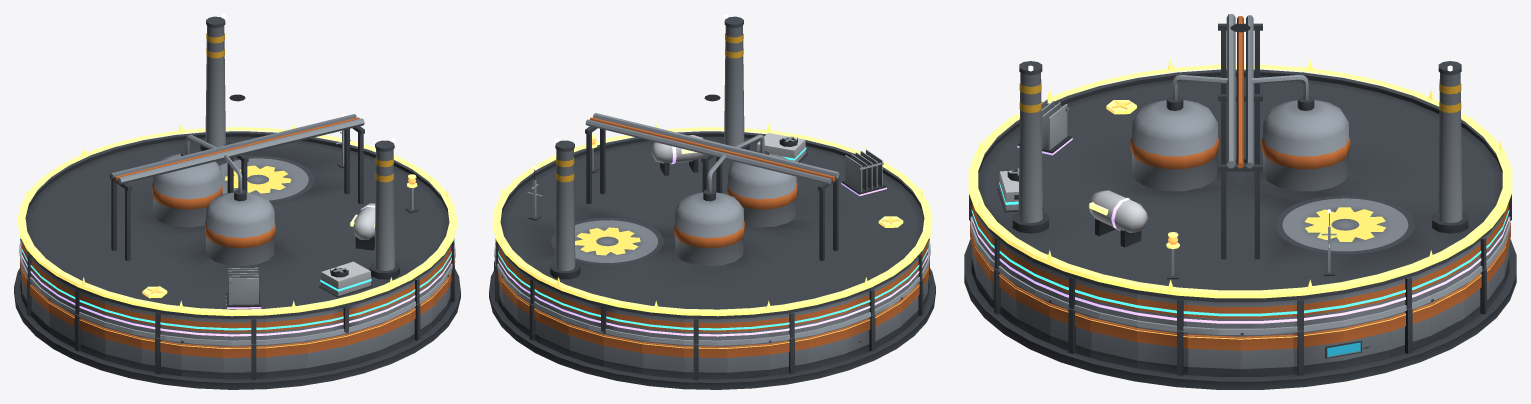
Rendered from polymer_plant_m.glb.
3 renders of one model, left to right at view 1: azimuth 30°, elevation 25°; view 2: azimuth 150°, elevation 25°; view 3: azimuth 270°, elevation 25°, orthographic. The views are drawn at different scales.
Parts seen in each view (by area): view 1: Roof, Base, L4, Wall_21, Wall_20, Wall_22, Wall_19, Wall_23, L3, Wall_18, Wall_24, Wall_17 (+20 smaller); view 2: Roof, Base, L4, Wall_10, Wall_11, Wall_09, Wall_12, Wall_08, Wall_13, Wall_07, Wall_14, Wall_06 (+19 smaller); view 3: Roof, Base, L4, Wall_00, Wall_31, Wall_30, Wall_29, Wall_01, Wall_02, Wall_28, Wall_03, Wall_04 (+24 smaller).
Boxes of the visible parts, x1=… form: Roof: x1=25, y1=14, x2=451, y2=319; Base: x1=14, y1=268, x2=460, y2=389; L4: x1=226, y1=203, x2=375, y2=308; Wall_21: x1=223, y1=344, x2=265, y2=380; Wall_20: x1=181, y1=340, x2=223, y2=378; Wall_22: x1=265, y1=340, x2=307, y2=378; Wall_19: x1=141, y1=336, x2=181, y2=375; Wall_23: x1=307, y1=333, x2=346, y2=374; L3: x1=318, y1=261, x2=372, y2=297; Wall_18: x1=104, y1=327, x2=141, y2=369; Wall_24: x1=346, y1=323, x2=381, y2=366; Wall_17: x1=73, y1=314, x2=105, y2=360; Roof: x1=498, y1=14, x2=924, y2=319; Base: x1=489, y1=268, x2=935, y2=389; L4: x1=651, y1=135, x2=886, y2=196; Wall_10: x1=684, y1=344, x2=726, y2=380; Wall_11: x1=726, y1=342, x2=768, y2=378; Wall_09: x1=642, y1=340, x2=684, y2=378; Wall_12: x1=768, y1=336, x2=808, y2=375; Wall_08: x1=603, y1=332, x2=642, y2=374; Wall_13: x1=808, y1=327, x2=845, y2=369; Wall_07: x1=568, y1=323, x2=603, y2=366; Wall_14: x1=844, y1=314, x2=876, y2=360; Wall_06: x1=539, y1=310, x2=569, y2=356; Roof: x1=976, y1=14, x2=1504, y2=302; Base: x1=964, y1=239, x2=1516, y2=389; L4: x1=1017, y1=99, x2=1147, y2=247; Wall_00: x1=1240, y1=333, x2=1293, y2=376; Wall_31: x1=1187, y1=333, x2=1240, y2=376; Wall_30: x1=1137, y1=327, x2=1187, y2=375; Wall_29: x1=1090, y1=316, x2=1137, y2=368; Wall_01: x1=1293, y1=327, x2=1343, y2=375; Wall_02: x1=1343, y1=316, x2=1390, y2=368; Wall_28: x1=1049, y1=299, x2=1090, y2=357; Wall_03: x1=1390, y1=302, x2=1431, y2=357; Wall_04: x1=1430, y1=285, x2=1465, y2=343.
Size of the model in its own units: 14.75 by 7.39 by 14.75.
